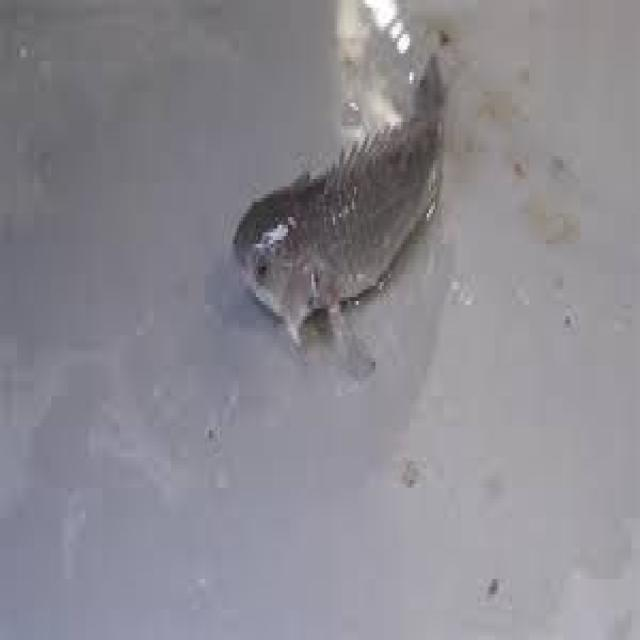Climbing-Perch: (167, 0, 520, 377)
